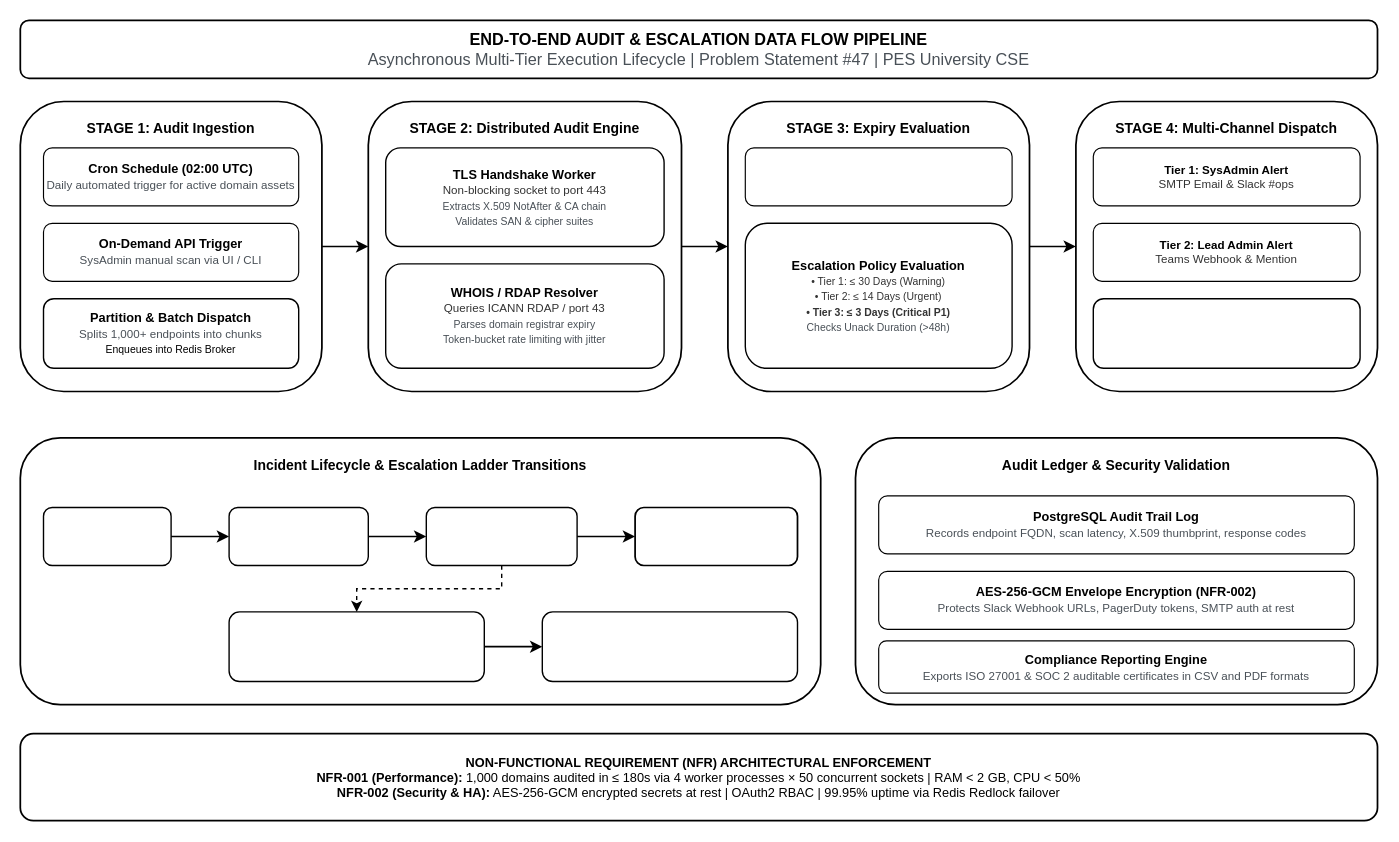
This 1399x842 diagram has some shape labels left out. Here are the shapes that lost their labels. From the top down, the centre of each, then its label:
At point 878,176: "Delta Days Calculation Days_Left = Expiry - Now(UTC)".
At point 1226,332: "Tier 3: Security Officer P1 PagerDuty High Urgency & SMS".
At point 106,536: "HEALTHY > 30 Days Left".
At point 298,536: "TIER 1 WARNING ≤ 30d (SysAdmin)".
At point 501,536: "TIER 2 URGENT ≤ 14d / Unack 48h".
At point 716,536: "TIER 3 CRITICAL ≤ 3d (Security Off.)".
At point 356,646: "ACKNOWLEDGED STATE SysAdmin mutes reminders during active certificate renewal".
At point 669,646: "RESOLVED & CLOSED New valid certificate detected on subsequent daily audit".
